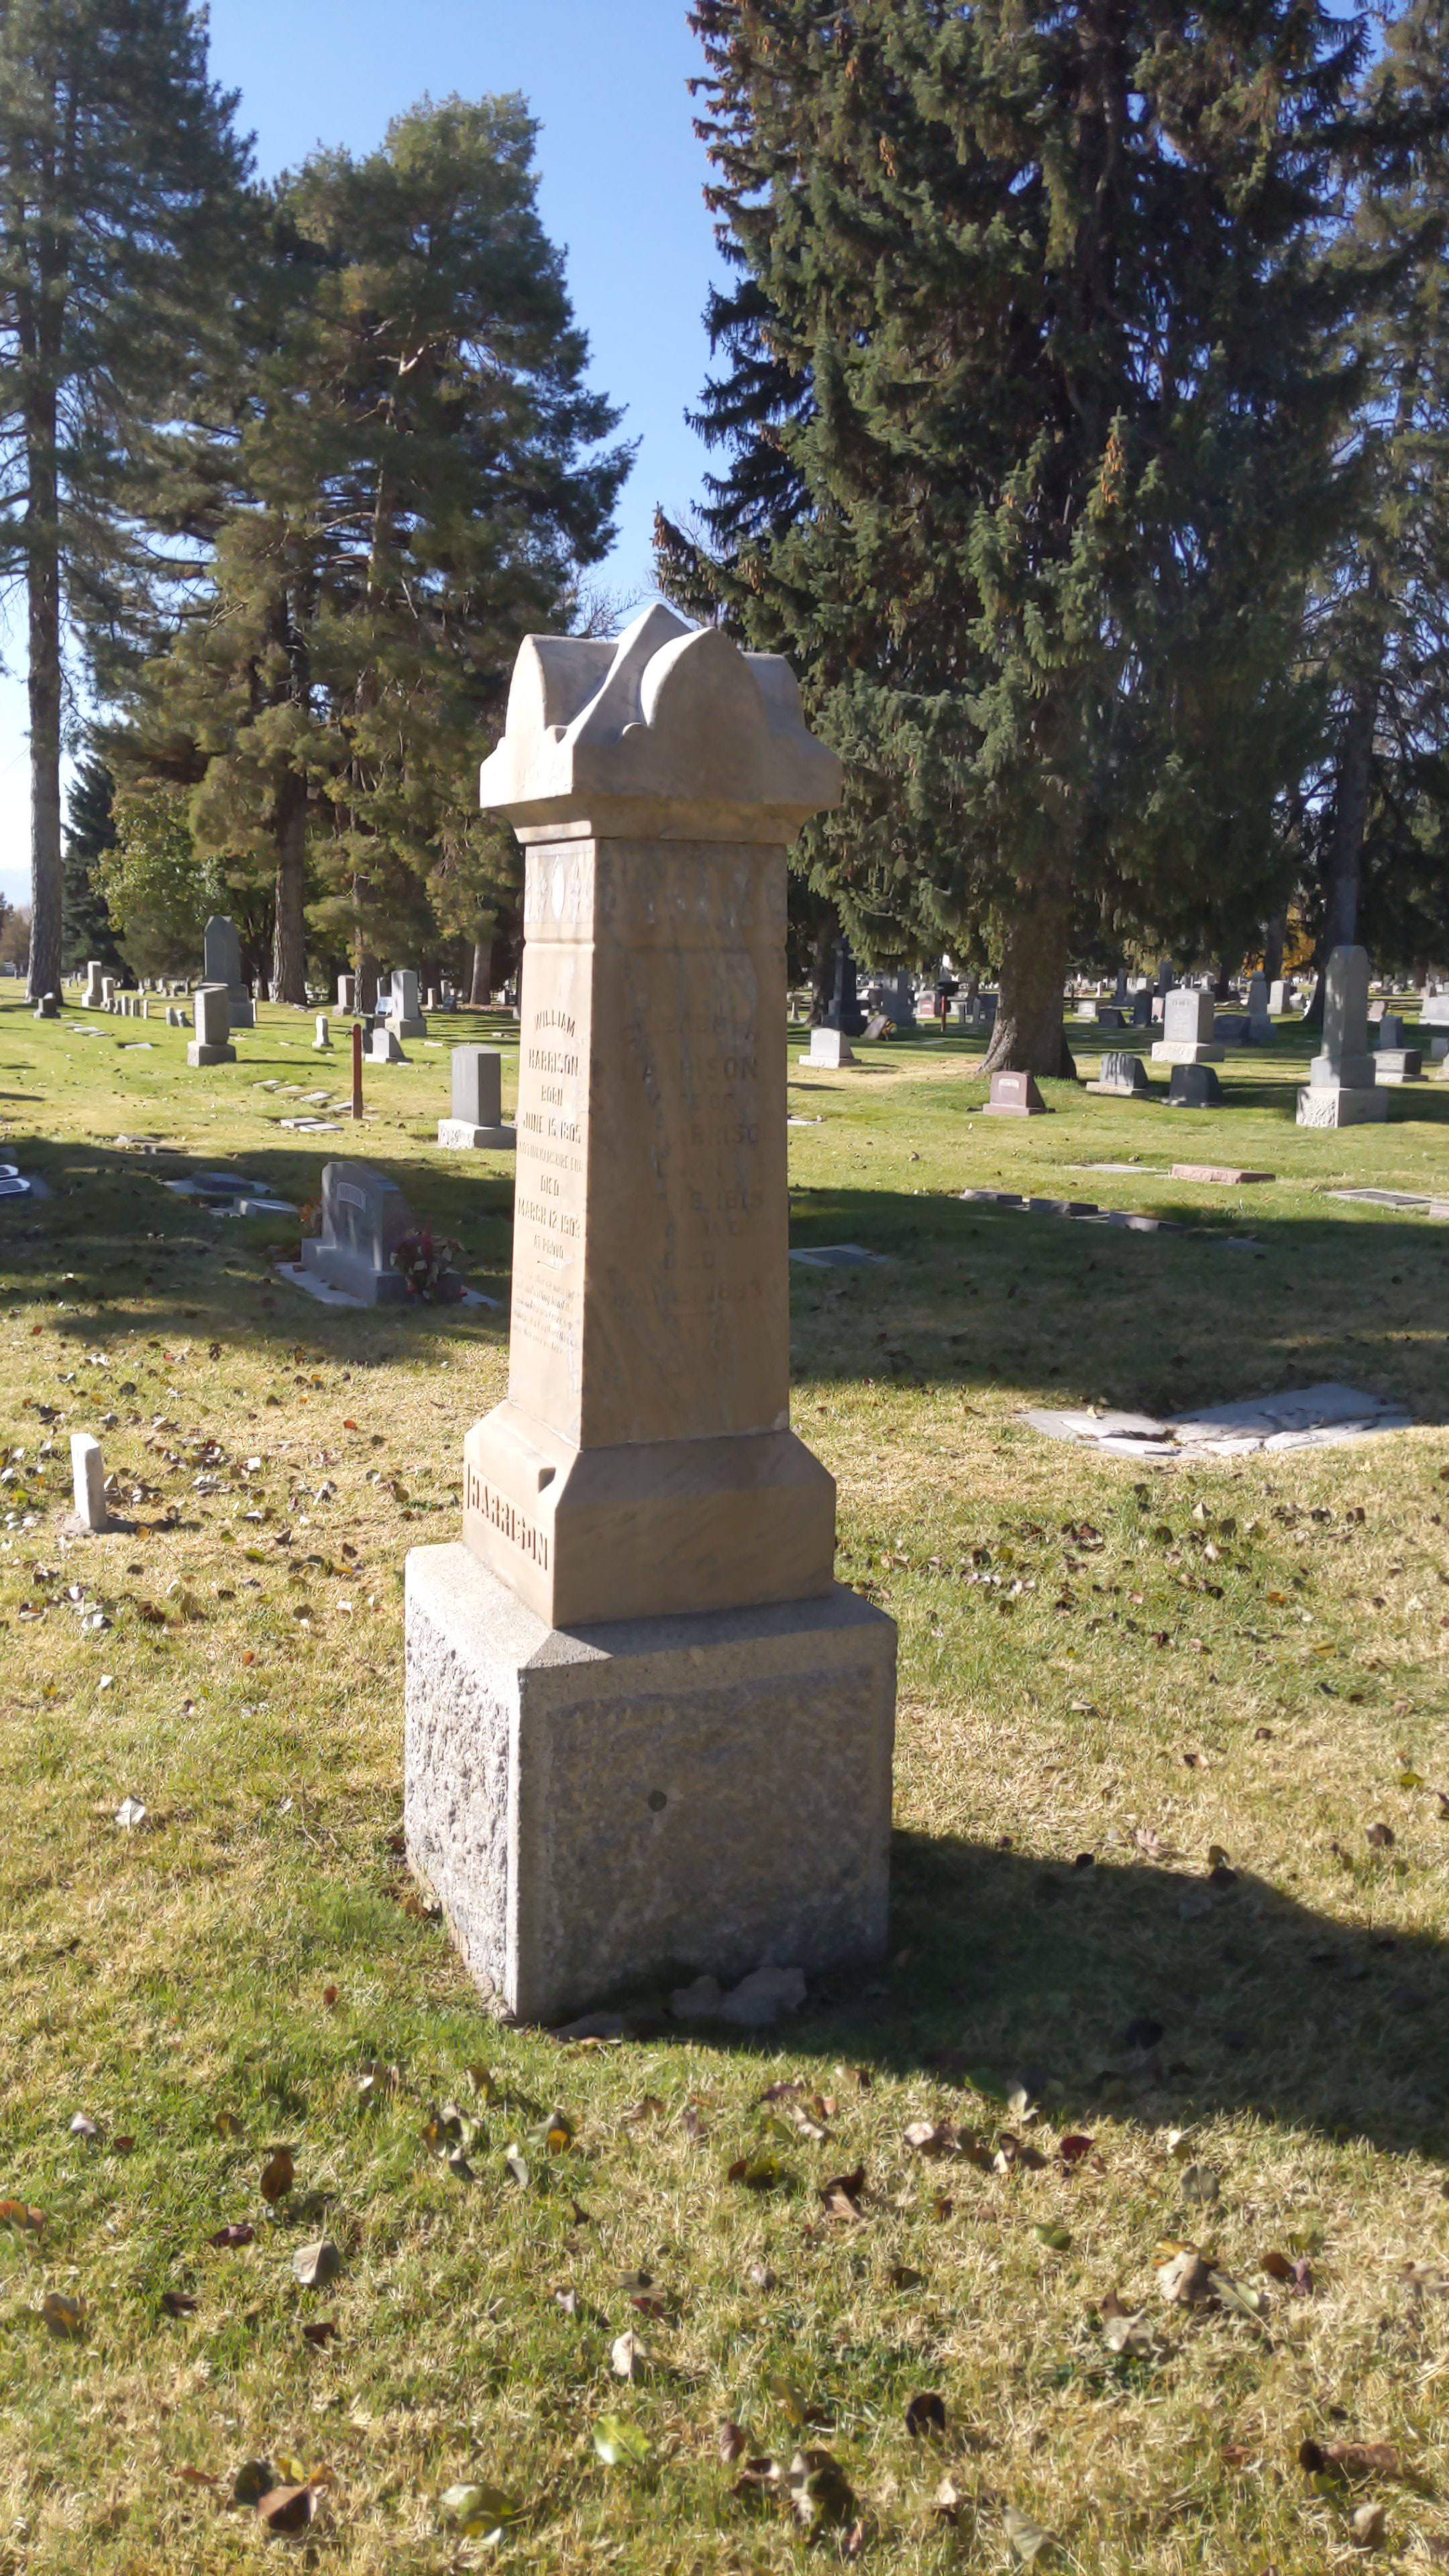obelisk: (481, 619, 832, 1628)
